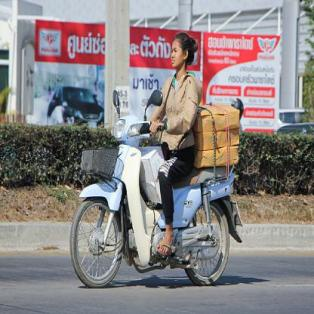Motocicleta: (65, 95, 244, 285)
